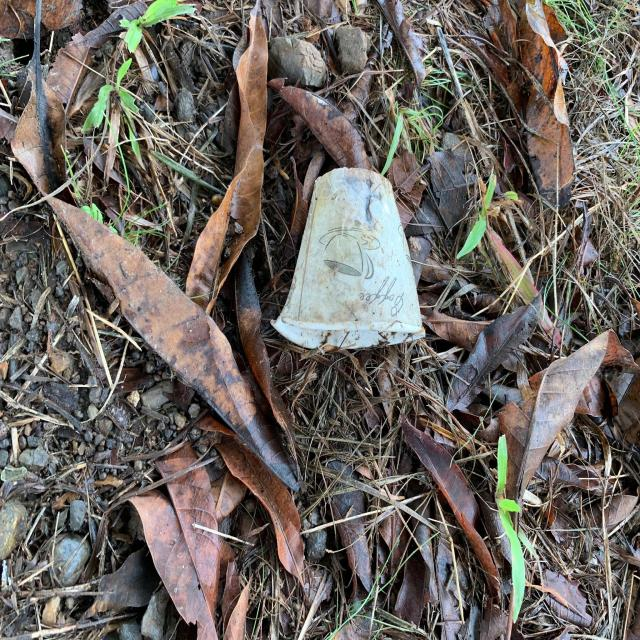litter: (276, 169, 423, 345)
